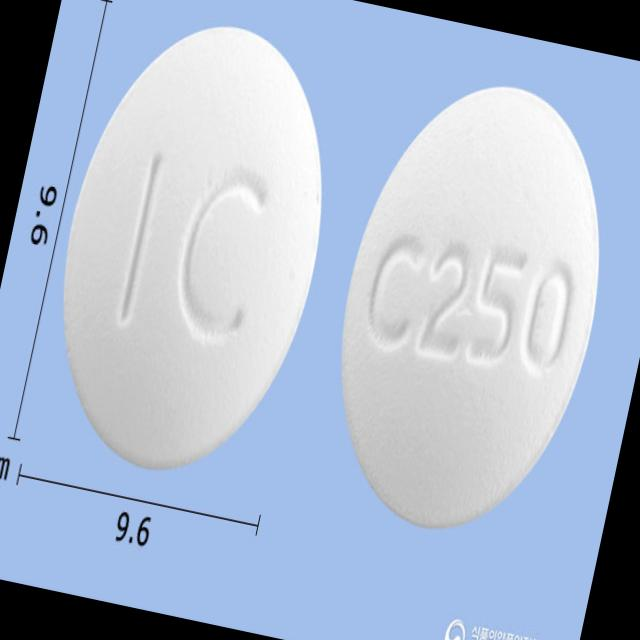Ciroctan - 500mg: (21, 0, 366, 499), (299, 56, 640, 559)
